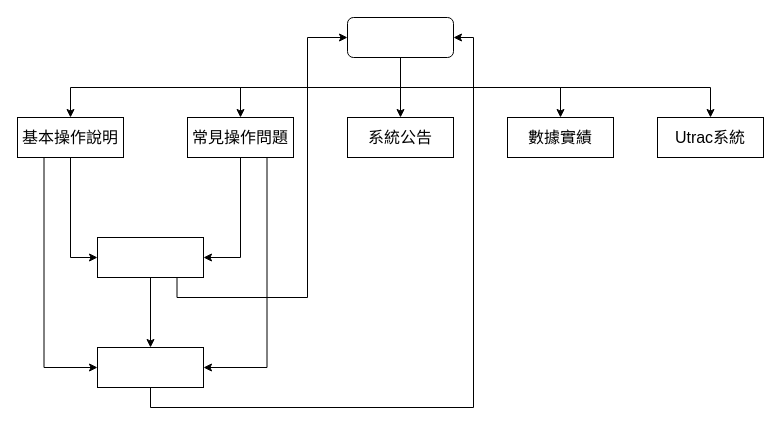
This 781x433 diagram has some shape labels left out. Here are the shapes that lost their labels. From the top down, the centre of each, then its label:
At point 400,37: "客服網站".
At point 150,257: "教學個案總覽".
At point 150,367: "PDF文件頁".
